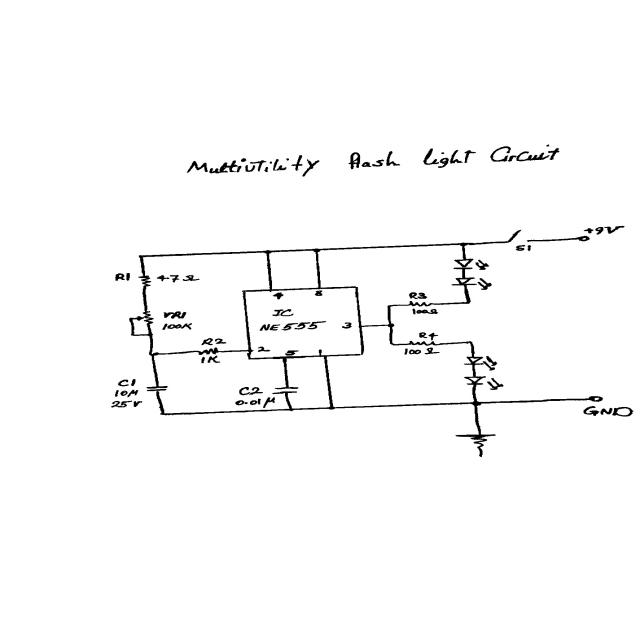capacitor: (271, 385, 301, 396), (145, 385, 169, 393)
diode: (462, 375, 504, 390), (463, 355, 499, 371), (450, 277, 492, 290), (452, 258, 490, 271)
ground: (454, 433, 497, 457)
junction: (471, 400, 482, 406), (148, 352, 160, 357), (387, 322, 397, 328), (458, 242, 470, 247), (463, 300, 472, 305), (312, 248, 321, 253), (328, 405, 336, 410), (385, 304, 393, 309), (146, 333, 155, 337), (264, 250, 273, 254), (287, 408, 295, 412), (467, 340, 475, 344), (388, 342, 396, 346), (159, 412, 166, 416), (129, 333, 136, 337), (138, 254, 145, 258), (128, 317, 134, 321)
resistor: (137, 310, 155, 325), (196, 347, 220, 356), (408, 300, 436, 307), (407, 340, 439, 346), (137, 275, 152, 287)
switch: (507, 229, 532, 243)
terminal: (589, 395, 604, 402), (576, 236, 590, 242)
text: (185, 144, 561, 177), (258, 321, 327, 331), (582, 405, 633, 417), (235, 397, 277, 408), (583, 225, 626, 235), (156, 274, 201, 283), (110, 400, 143, 409), (404, 347, 441, 355), (201, 337, 227, 346), (238, 386, 264, 395), (114, 389, 139, 398), (162, 323, 193, 330), (411, 308, 438, 315), (418, 332, 439, 341), (163, 311, 186, 319), (271, 309, 294, 317), (201, 355, 221, 364), (117, 378, 136, 387), (409, 291, 427, 300), (115, 272, 130, 282), (515, 244, 532, 252), (284, 350, 300, 356), (256, 346, 272, 352), (273, 292, 284, 300), (341, 322, 353, 329), (314, 290, 324, 297), (318, 349, 323, 355)
